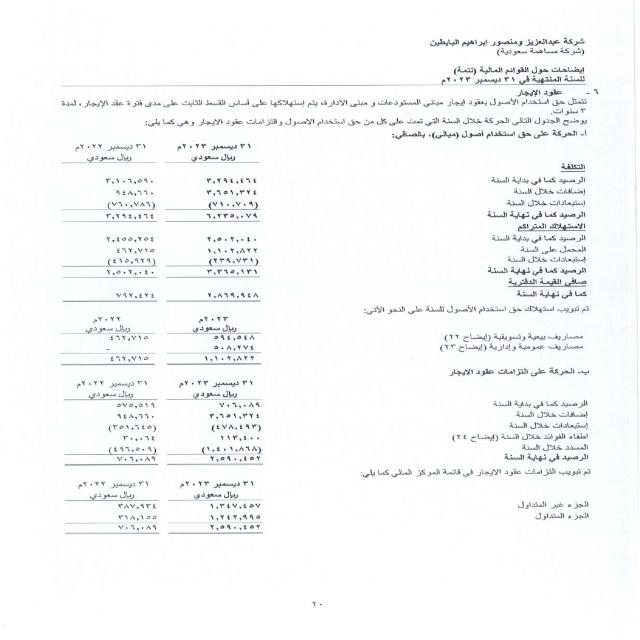notes: (449, 65, 589, 77)
table: (38, 140, 263, 312), (38, 324, 258, 468), (33, 479, 271, 539)
